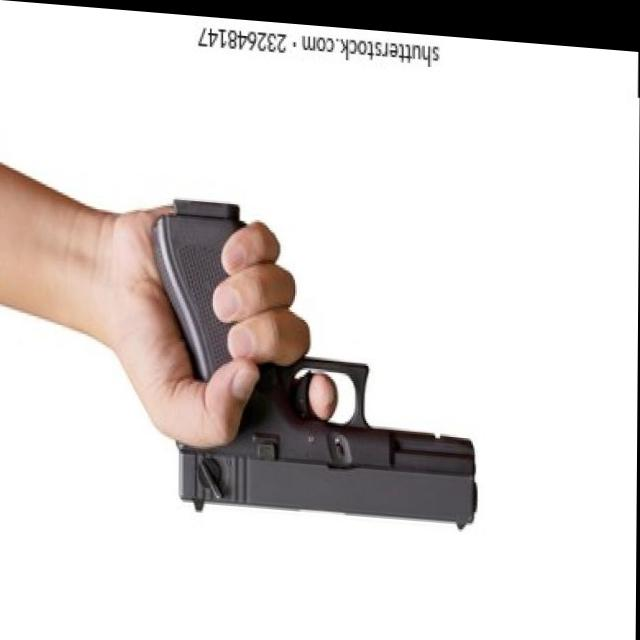handgun: (154, 195, 479, 524)
